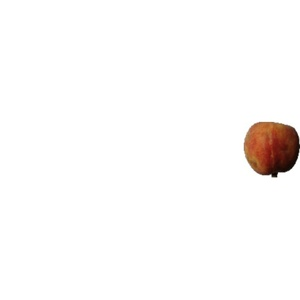pêssego: (244, 122, 300, 178)
